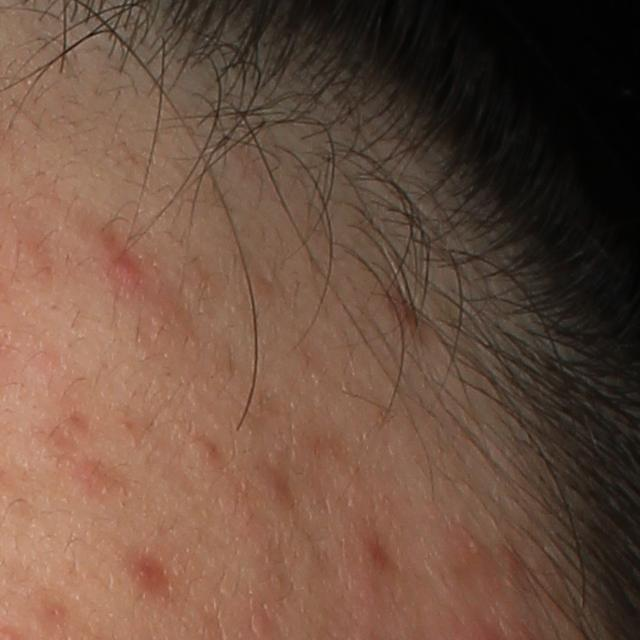papule: (108, 257, 147, 296), (188, 436, 220, 463)
